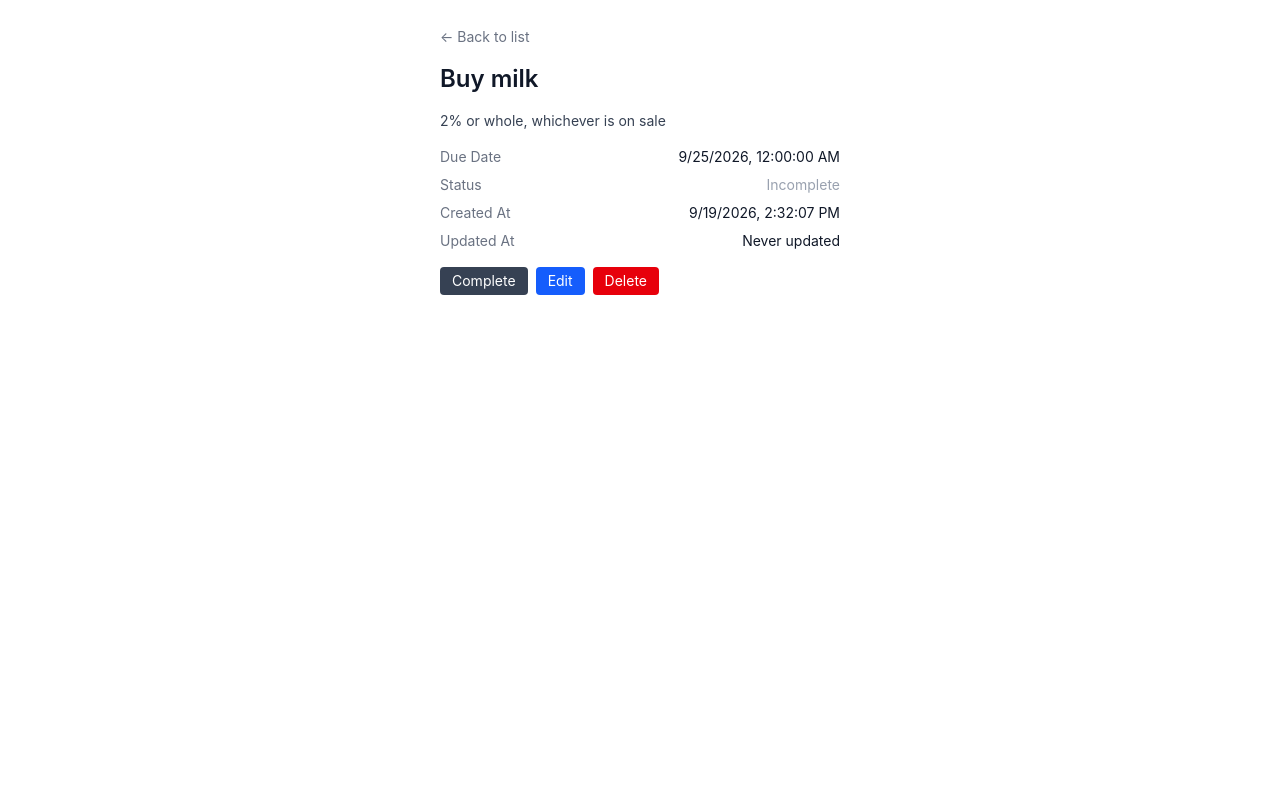
TodoDetailRoute › closes the dialog without deleting when No is clicked
The image size is (1280, 800).
Expected: the heading "Buy milk" is shown, [440, 64, 538, 93]
Click the button "Delete": (626, 281) [593, 267, 659, 295]
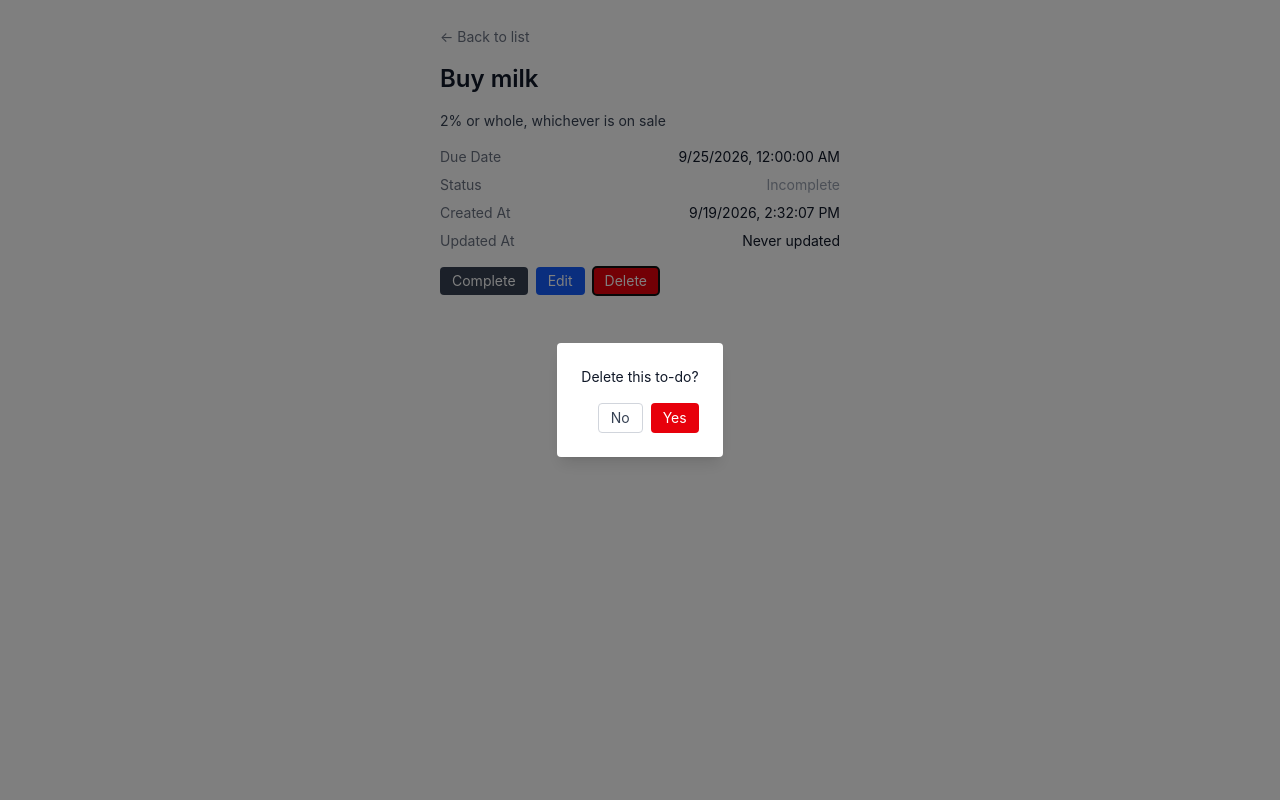
Click the button "No": (620, 418) [598, 403, 643, 433]
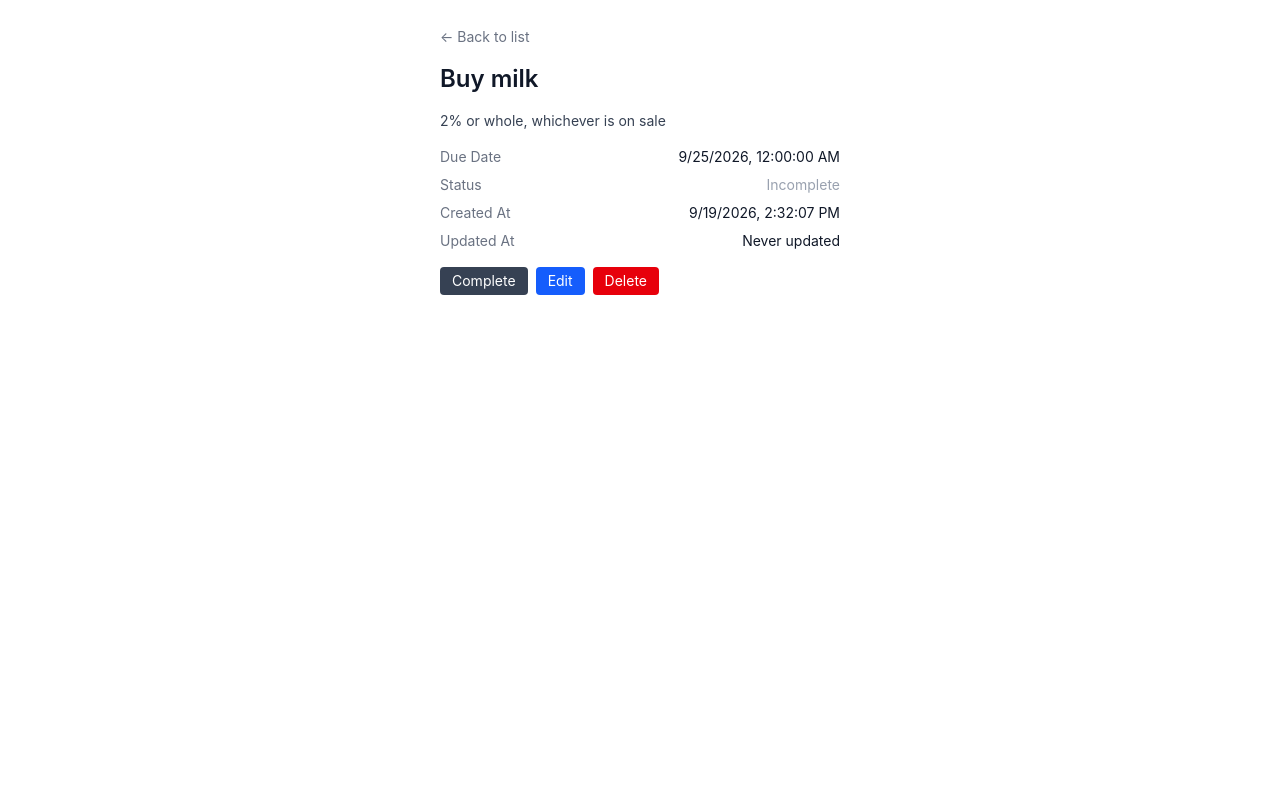
Now the text "Delete this to-do?" is gone
